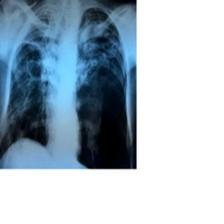tuberculosis: (0, 0, 135, 168)
